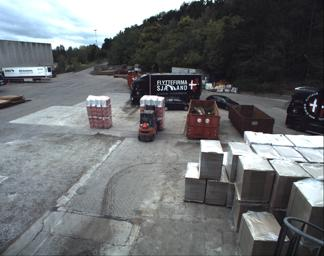rockwool_batts: (86, 94, 112, 127), (139, 95, 164, 128)
